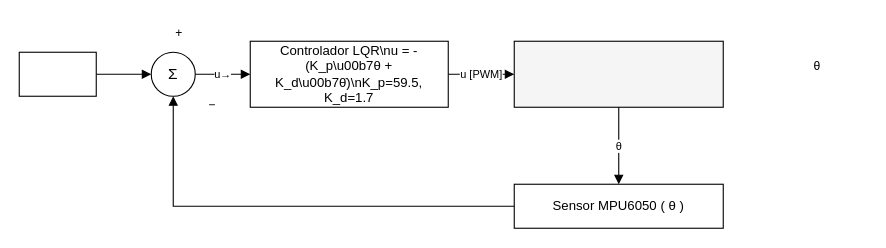
This 886x248 diagram has some shape labels left out. Here are the shapes that lost their labels. From the top down, the centre of each, then its label:
point 57,73: θ_ref = 0
point 618,73: Planta\nMotor + Péndulo
